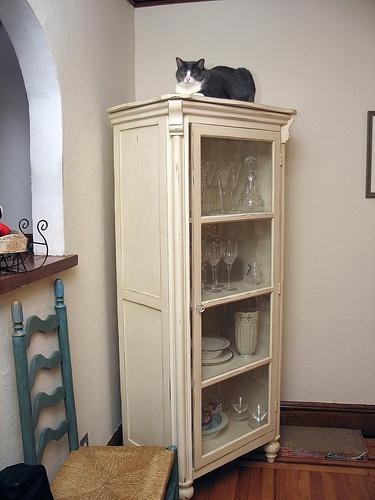cat: (174, 58, 257, 104)
chair: (11, 277, 181, 500)
